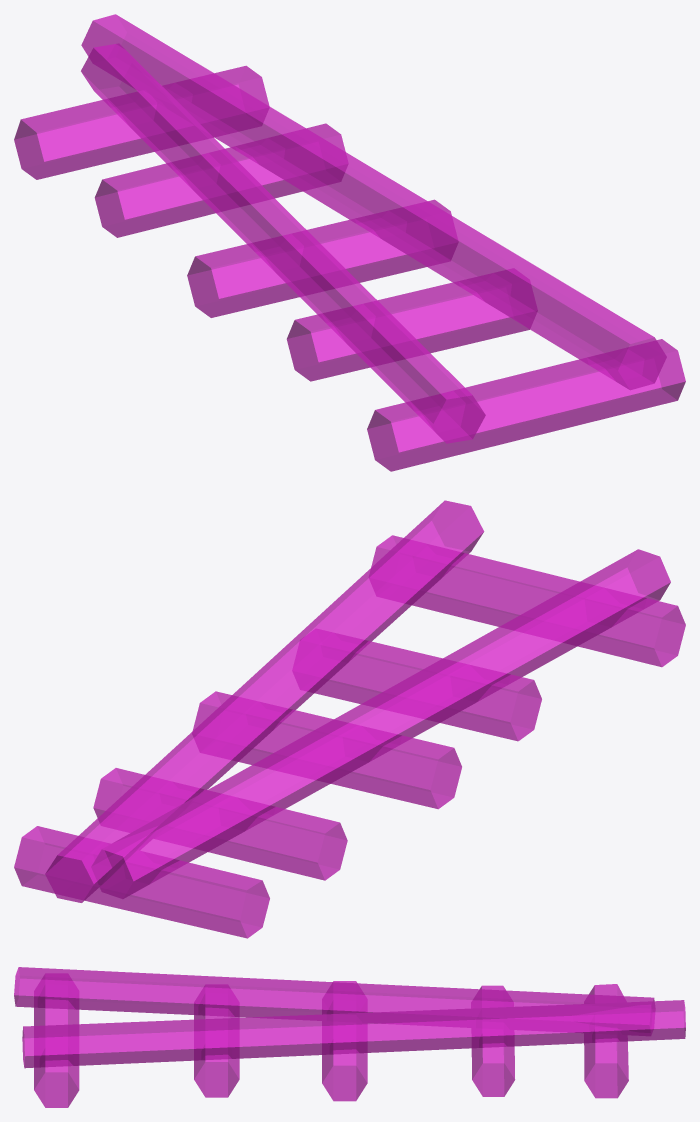
The model's file is SM_Prop_Boat_Ramp_02_Collision.fbx.
3 renders of one model, top to bottom at view 1: azimuth 30°, elevation 25°; view 2: azimuth 150°, elevation 25°; view 3: azimuth 270°, elevation 25°, orthographic. The views are drawn at different scales.
Parts seen in each view (by area): view 1: SM_Prop_Boat_Ramp_02_Collision; view 2: SM_Prop_Boat_Ramp_02_Collision; view 3: SM_Prop_Boat_Ramp_02_Collision.
Boxes of the visible parts, box(x1,y1,x2,y2) form: SM_Prop_Boat_Ramp_02_Collision: box(14, 14, 685, 471); SM_Prop_Boat_Ramp_02_Collision: box(14, 500, 685, 938); SM_Prop_Boat_Ramp_02_Collision: box(14, 967, 685, 1107).
Bounding box in the file's own units: 165 × 48.26 × 471.
